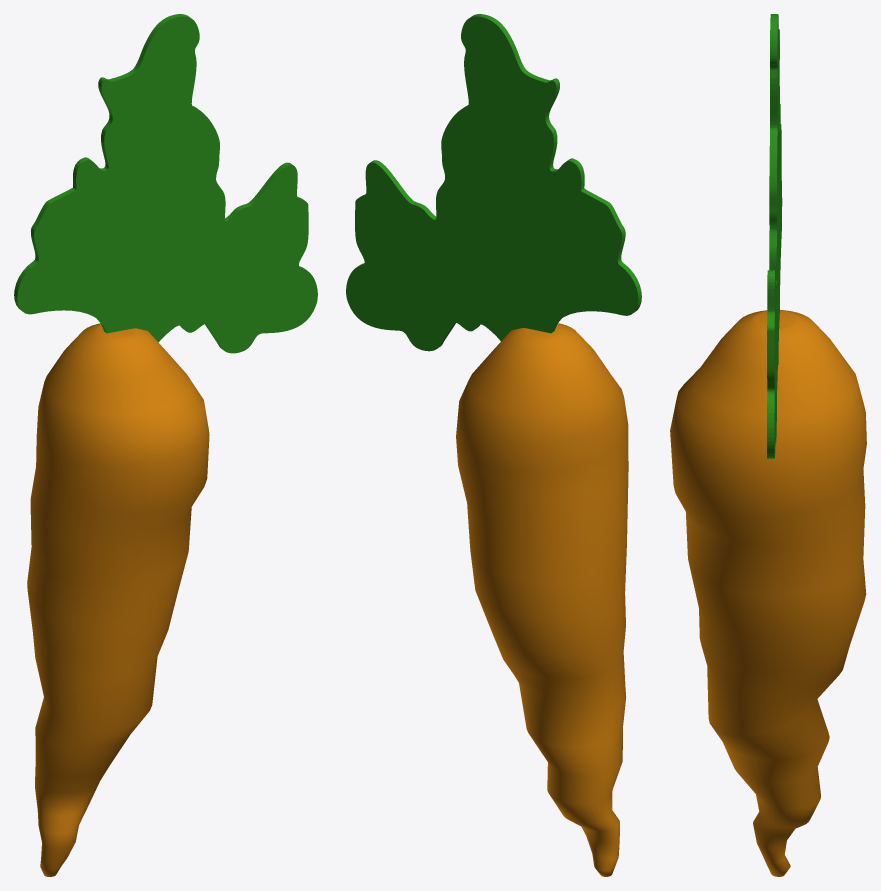
File: Cenoura.gltf
The picture shows the model from 3 angles, left to right: view 1: azimuth 30°, elevation 25°; view 2: azimuth 150°, elevation 25°; view 3: azimuth 270°, elevation 25°; orthographic projection. The views are drawn at different scales.
Parts seen in each view (by area): view 1: BezierCurve.001, BezierCurve; view 2: BezierCurve.001, BezierCurve; view 3: BezierCurve.001, BezierCurve.
Part boxes in pixels (x1=…): BezierCurve.001: x1=27, y1=323, x2=209, y2=876; BezierCurve: x1=14, y1=14, x2=317, y2=353; BezierCurve.001: x1=456, y1=323, x2=628, y2=876; BezierCurve: x1=346, y1=14, x2=641, y2=351; BezierCurve.001: x1=670, y1=310, x2=866, y2=876; BezierCurve: x1=767, y1=14, x2=782, y2=458.
Size of the model in its own units: 0.2384 by 0.6367 by 0.1228.
